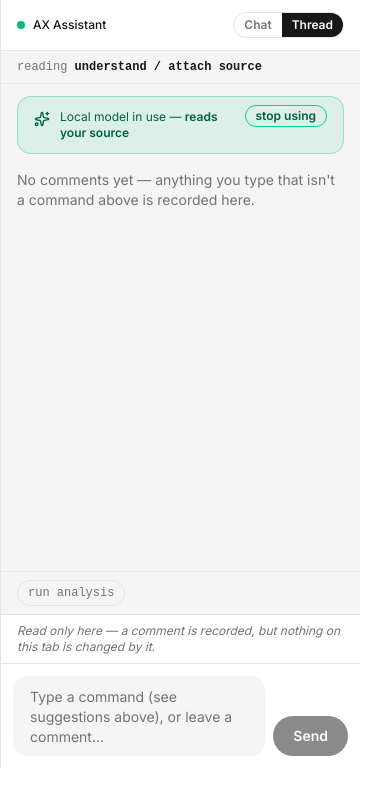
it: AxAssistantPanel › chat with the local model › shows what was asked and what the model answered
Click the tab "chat" at (258, 25), box x1=234 y1=13 x2=282 y2=37
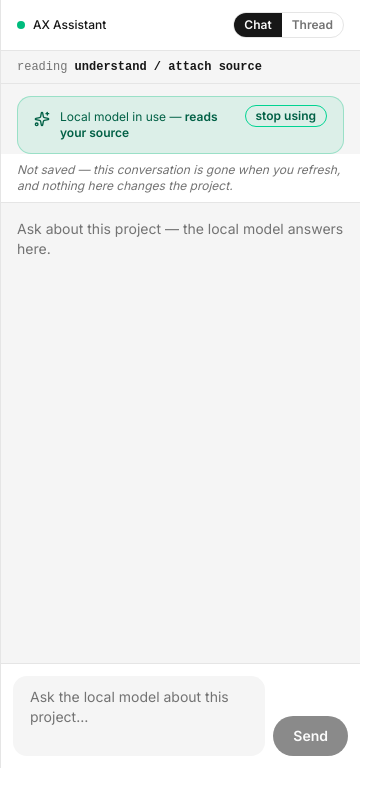
Type "what does this run on?" into the text box at (139, 716), box x1=13 y1=676 x2=265 y2=756
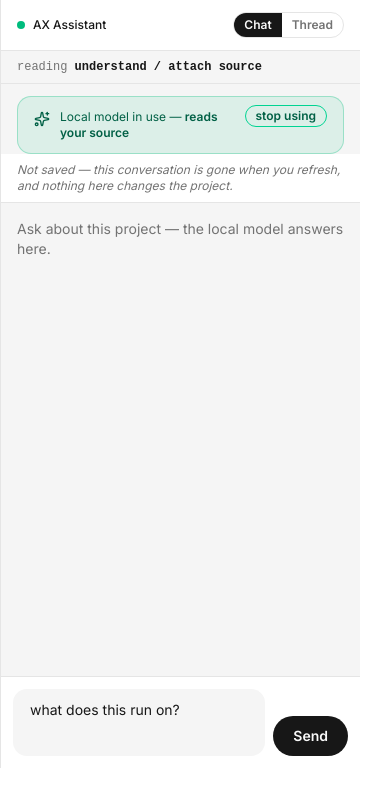
Submit the form, box x1=1 y1=676 x2=360 y2=768
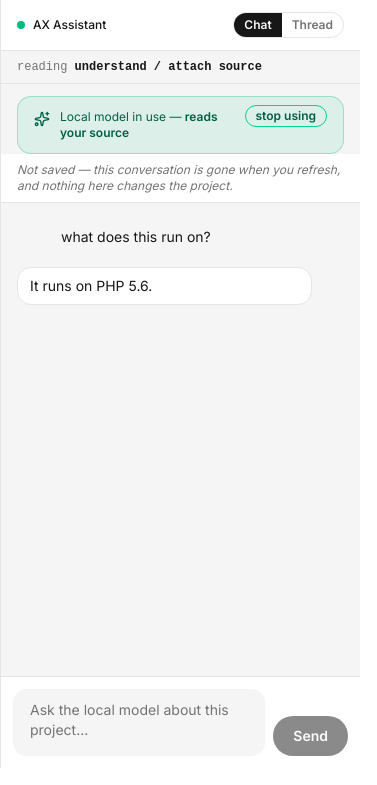
Expected: the text "It runs on PHP 5.6." is shown, x1=30 y1=277 x2=152 y2=294
Expected: the text "what does this run on?" is shown, x1=61 y1=228 x2=211 y2=245
